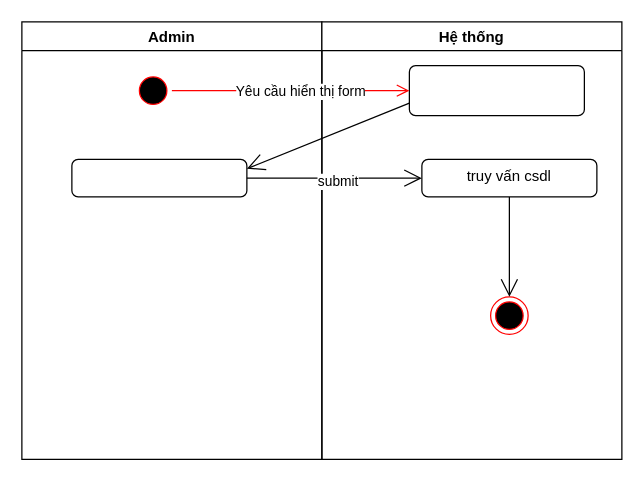
The diagram is 644 pixels wide and 481 high, and some of its shapes have lost their labels. The shapes that lost their labels are listed below. From the top down, each one's box as (x1, y1, x2, y2) in pixels, then its label:
(408, 64, 584, 116): Hiển thị form tìm kiếm
(71, 158, 247, 197): Nhập tên truyện
